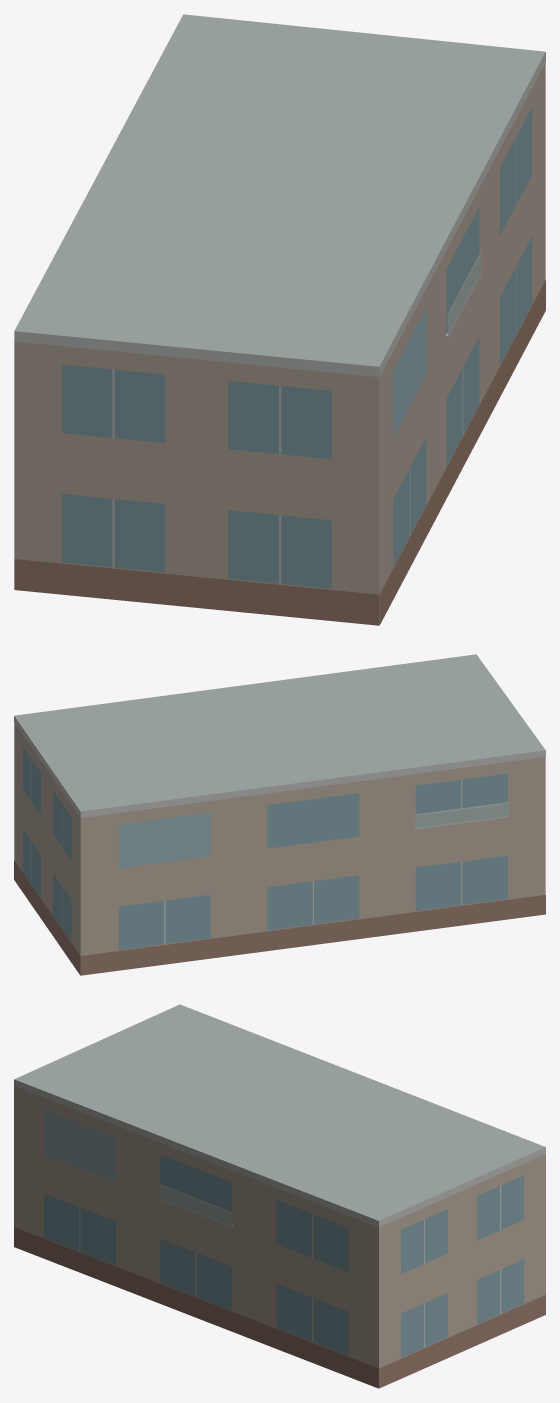
File: survey-upis-32581201.glb
The picture shows the model from 3 angles, top to bottom: view 1: azimuth 30°, elevation 25°; view 2: azimuth 150°, elevation 25°; view 3: azimuth 270°, elevation 25°; orthographic projection. The views are drawn at different scales.
Visible parts, largest first — view 1: survey-upis-32581201.tmp; view 2: survey-upis-32581201.tmp; view 3: survey-upis-32581201.tmp.
Boxes of the visible parts, box(x1,y1,x2,y2) form: survey-upis-32581201.tmp: box(14, 14, 545, 625); survey-upis-32581201.tmp: box(14, 654, 545, 975); survey-upis-32581201.tmp: box(14, 1004, 545, 1388).
Bounding box in the file's own units: 16.91 × 6.1 × 17.54.
